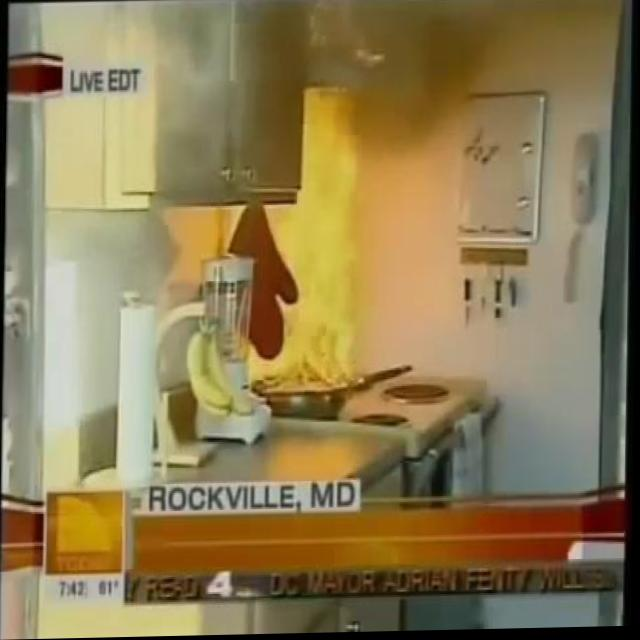fire: (233, 88, 369, 396)
